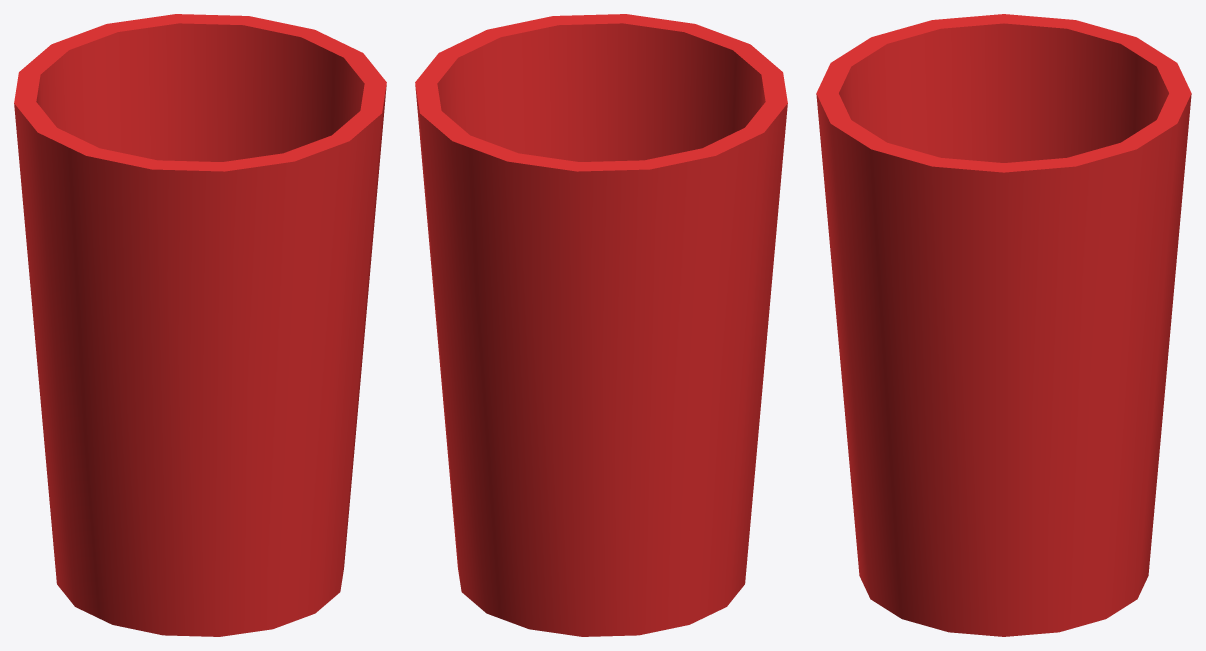
The model's file is red_cup.fbx.
3 views of the same model, side by side, from view 1: azimuth 30°, elevation 25°; view 2: azimuth 150°, elevation 25°; view 3: azimuth 270°, elevation 25° (orthographic).
Parts seen in each view (by area): view 1: red_cup; view 2: red_cup; view 3: red_cup.
Part boxes in pixels (x1,y1,x2,y2): red_cup: (14,14,386,636); red_cup: (415,14,787,636); red_cup: (816,14,1191,636).
Size of the model in its own units: 14.8 by 21 by 14.8.
1 material, 1 textured.
